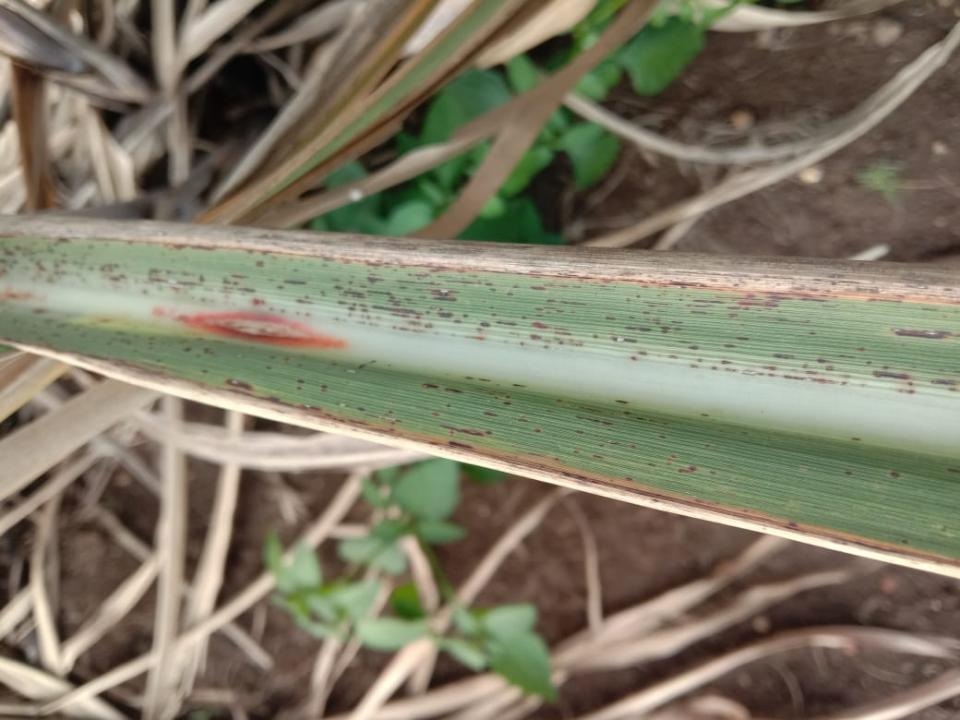RedRot: (170, 310, 352, 350), (0, 283, 35, 304), (151, 305, 167, 318)
Rust: (0, 338, 959, 571), (132, 267, 311, 318), (332, 287, 456, 334), (0, 236, 95, 286), (28, 306, 112, 341), (728, 291, 841, 311), (519, 320, 586, 350), (627, 349, 705, 371), (708, 357, 777, 379), (781, 374, 865, 389), (464, 319, 519, 341), (684, 295, 733, 316), (356, 407, 403, 425), (890, 329, 959, 341), (445, 279, 496, 294), (442, 424, 494, 438), (636, 294, 681, 308), (575, 416, 614, 432), (181, 344, 222, 359), (421, 382, 465, 395), (652, 317, 685, 334), (805, 358, 836, 376), (365, 262, 409, 274), (534, 306, 577, 318), (757, 315, 811, 324), (161, 243, 215, 252), (265, 354, 291, 372), (531, 283, 582, 292), (428, 289, 460, 303), (872, 371, 911, 381), (546, 298, 589, 307), (276, 278, 307, 290), (929, 379, 957, 392), (107, 332, 133, 346), (395, 279, 443, 286), (668, 281, 708, 289), (406, 269, 435, 280), (895, 382, 916, 396), (866, 297, 903, 304), (625, 324, 652, 333), (246, 248, 272, 257), (358, 358, 377, 370), (610, 336, 638, 344), (664, 453, 678, 469), (598, 439, 620, 449), (99, 263, 121, 273), (773, 352, 797, 361), (678, 464, 699, 474), (295, 295, 314, 305), (109, 272, 127, 282), (465, 376, 494, 382), (365, 277, 386, 285), (403, 297, 419, 306), (501, 394, 512, 407), (483, 410, 500, 418), (148, 336, 157, 351), (295, 378, 305, 391), (888, 470, 901, 479), (837, 354, 856, 360), (518, 412, 528, 423), (727, 312, 740, 320), (254, 259, 265, 268), (920, 307, 939, 312), (331, 284, 344, 291), (592, 453, 604, 460), (348, 274, 355, 286), (512, 383, 528, 388), (321, 383, 329, 393), (657, 290, 668, 297), (320, 262, 331, 269), (947, 468, 959, 474), (467, 273, 479, 279), (844, 469, 854, 476), (851, 436, 862, 442), (431, 411, 442, 417), (687, 345, 700, 350), (615, 400, 628, 405), (323, 257, 336, 262), (856, 346, 865, 353), (534, 427, 543, 434), (572, 447, 581, 454), (648, 462, 658, 468), (622, 410, 632, 416), (103, 241, 111, 248), (605, 316, 616, 321), (200, 368, 209, 374), (343, 259, 352, 265), (736, 337, 749, 341), (575, 429, 585, 434), (330, 278, 340, 283), (865, 359, 873, 365), (724, 344, 736, 348), (625, 298, 631, 306), (513, 283, 521, 289), (320, 290, 326, 298), (291, 267, 299, 273), (87, 244, 95, 250), (454, 319, 463, 324), (639, 285, 650, 289), (709, 469, 716, 475), (625, 476, 632, 482), (881, 365, 889, 370), (490, 313, 498, 318), (398, 287, 408, 291), (418, 295, 428, 299), (126, 240, 134, 245), (803, 363, 809, 369), (700, 413, 709, 417), (630, 444, 636, 450), (658, 435, 665, 440), (462, 313, 469, 318), (360, 284, 367, 289), (809, 332, 817, 336), (643, 310, 651, 314), (445, 403, 451, 408), (556, 398, 562, 403), (521, 316, 528, 320), (628, 315, 635, 319), (507, 292, 514, 296), (593, 334, 598, 339), (704, 444, 710, 448), (489, 306, 495, 310)
